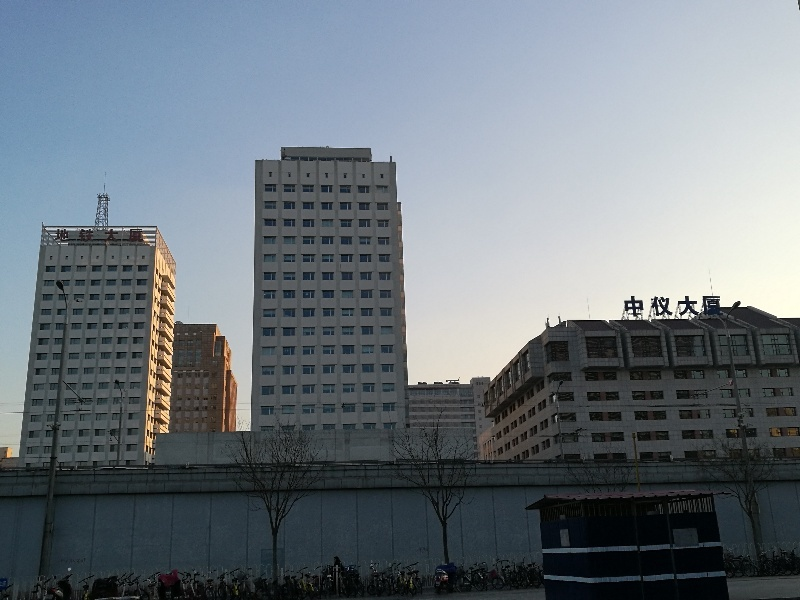text: (625, 296, 640, 317), (641, 296, 656, 317), (657, 296, 672, 317), (673, 296, 688, 317), (689, 296, 704, 317), (705, 296, 720, 317), (129, 229, 145, 243), (65, 229, 80, 243), (81, 229, 96, 243), (97, 229, 112, 243), (113, 229, 128, 243), (55, 229, 64, 243), (721, 296, 724, 317), (623, 296, 624, 317)
